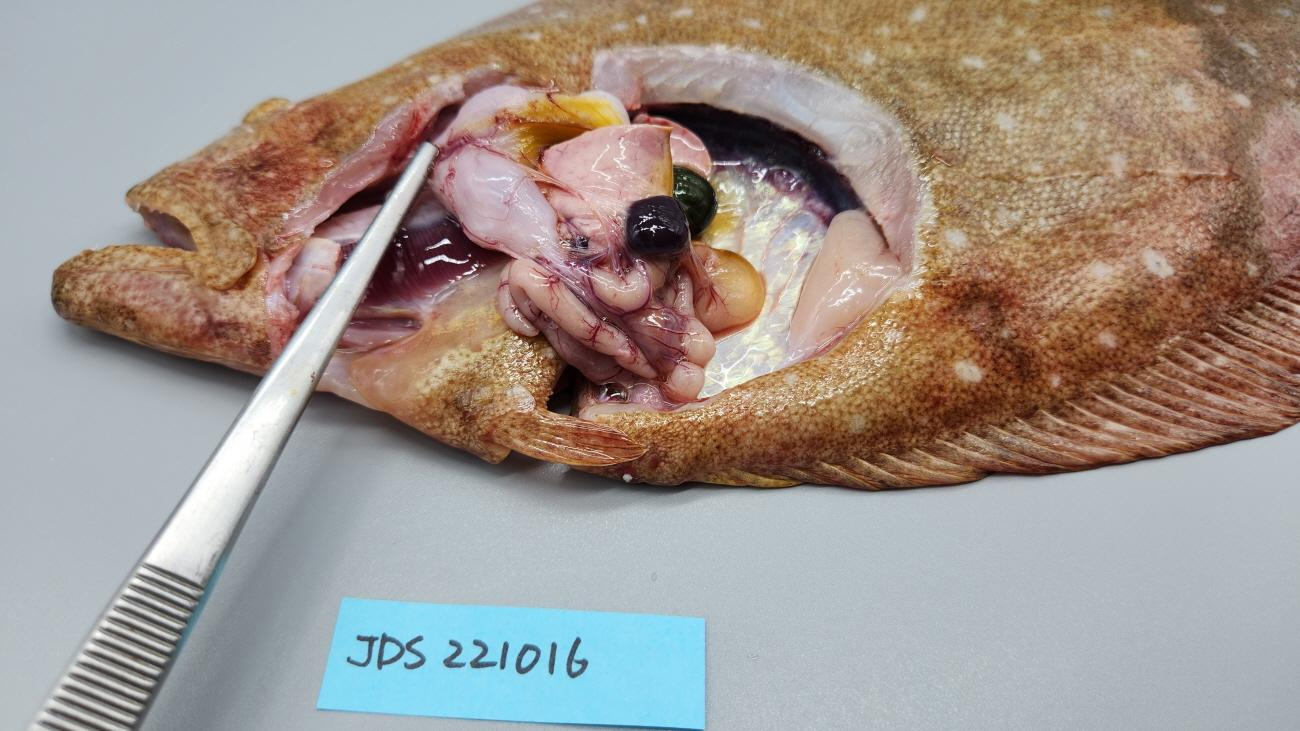POINN: (493, 253, 715, 401)
POSPN: (626, 195, 689, 256)
